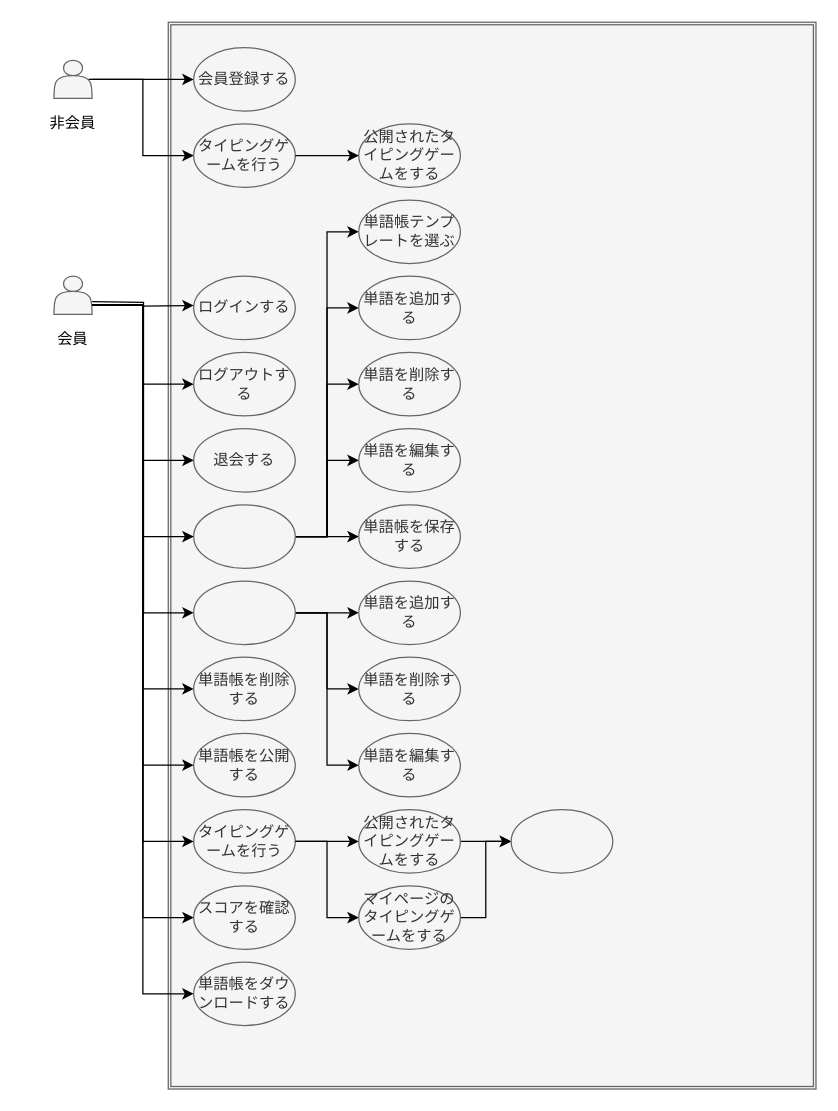
Image size: 838x1111. Some labels were removed from this diagram. Each missing label, with the centre of its shape:
"ゲームモードを設定する" belongs at pixel 561 840.
"単語帳を作る" belongs at pixel 243 536.
"単語帳を編集する" belongs at pixel 243 612.
